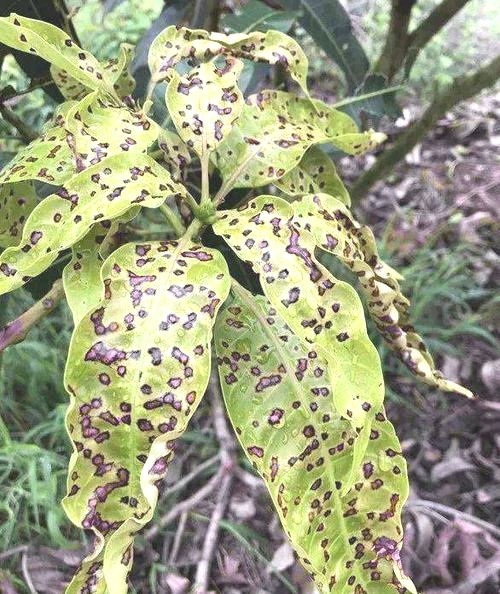Anthracnose: (208, 258, 425, 567), (29, 248, 200, 541), (34, 39, 205, 234), (226, 48, 348, 253)
